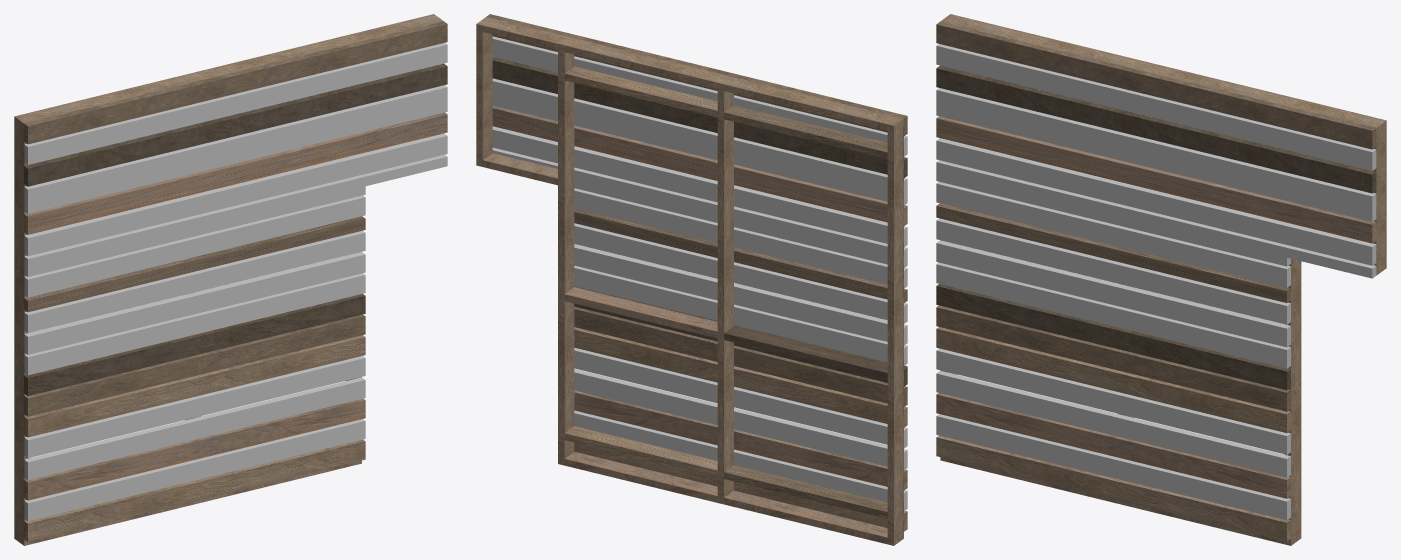
The model's file is WallPeiceDoorwayH.fbx.
The picture shows the model from 3 angles, left to right: view 1: azimuth 30°, elevation 25°; view 2: azimuth 150°, elevation 25°; view 3: azimuth 330°, elevation 25°; orthographic projection. The views are drawn at different scales.
Visible parts, largest first — view 1: WallPeiceDoorwayH; view 2: WallPeiceDoorwayH; view 3: WallPeiceDoorwayH.
Boxes of the visible parts, bbox=[...] form: WallPeiceDoorwayH: bbox=[14, 14, 447, 545]; WallPeiceDoorwayH: bbox=[476, 14, 907, 545]; WallPeiceDoorwayH: bbox=[936, 14, 1386, 545].
Size of the model in its own units: 389 by 374 by 22.
